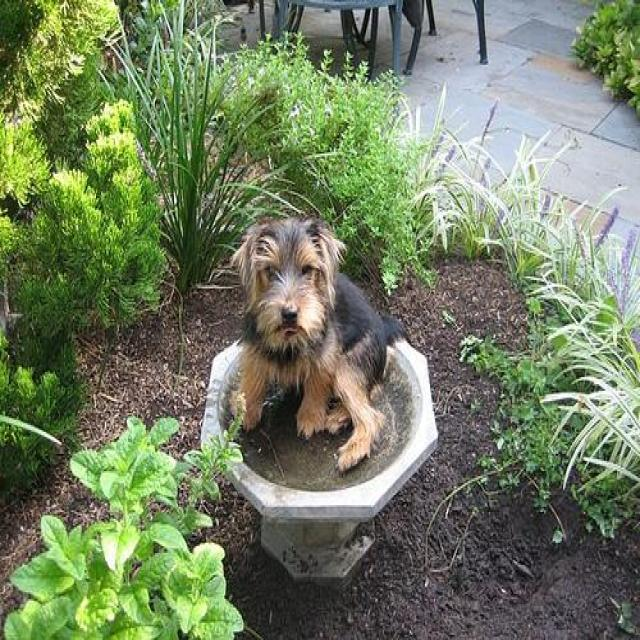dogs: (186, 146, 448, 488)
